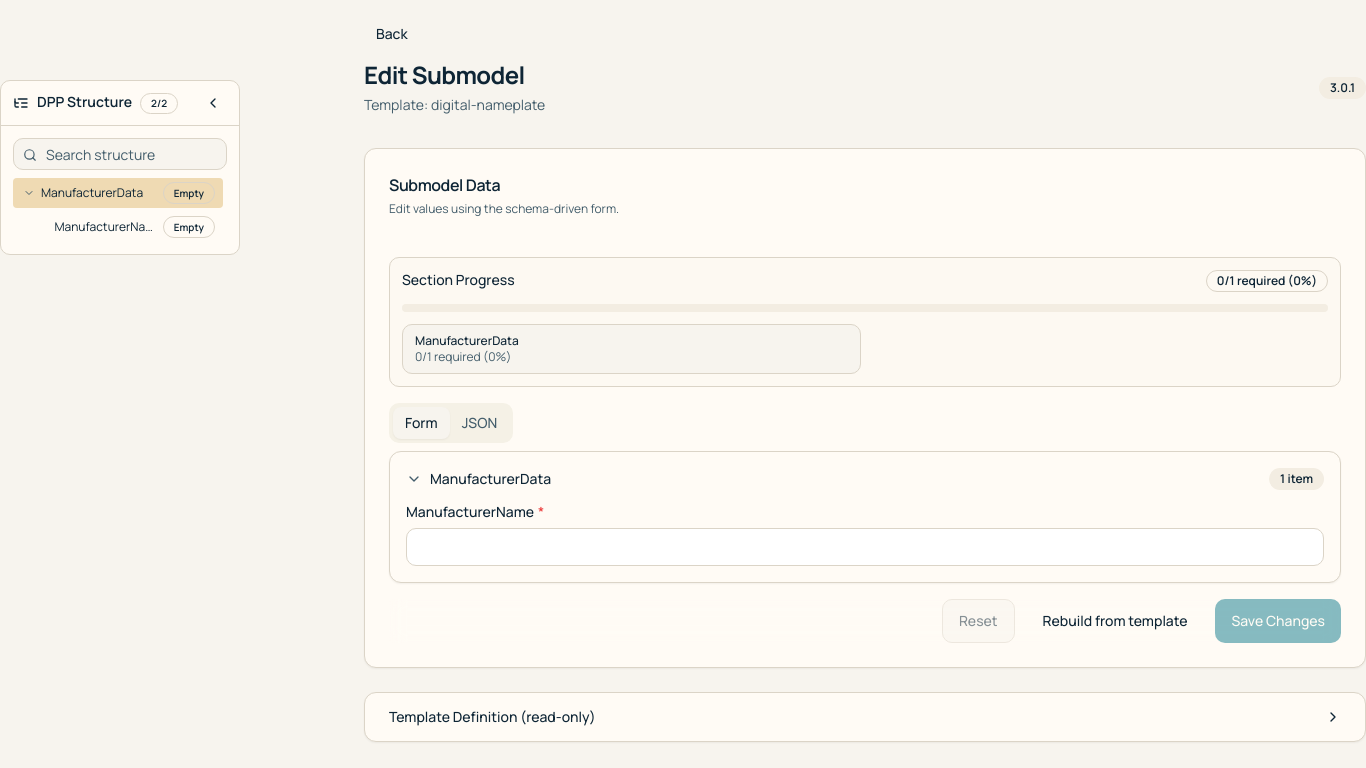
Scenario: SubmodelEditorPage progress and rebuild strategy › renders section progress and opens destructive rebuild confirmation dialog
The image size is (1366, 768).
Expected: the text "Section Progress" is shown, [402,271,515,291]
Expected: the text "ManufacturerData" below "DPP Structure" is shown, [41,184,143,201]
Click the button "Rebuild from template": [1115, 621] box [1027,599,1203,643]
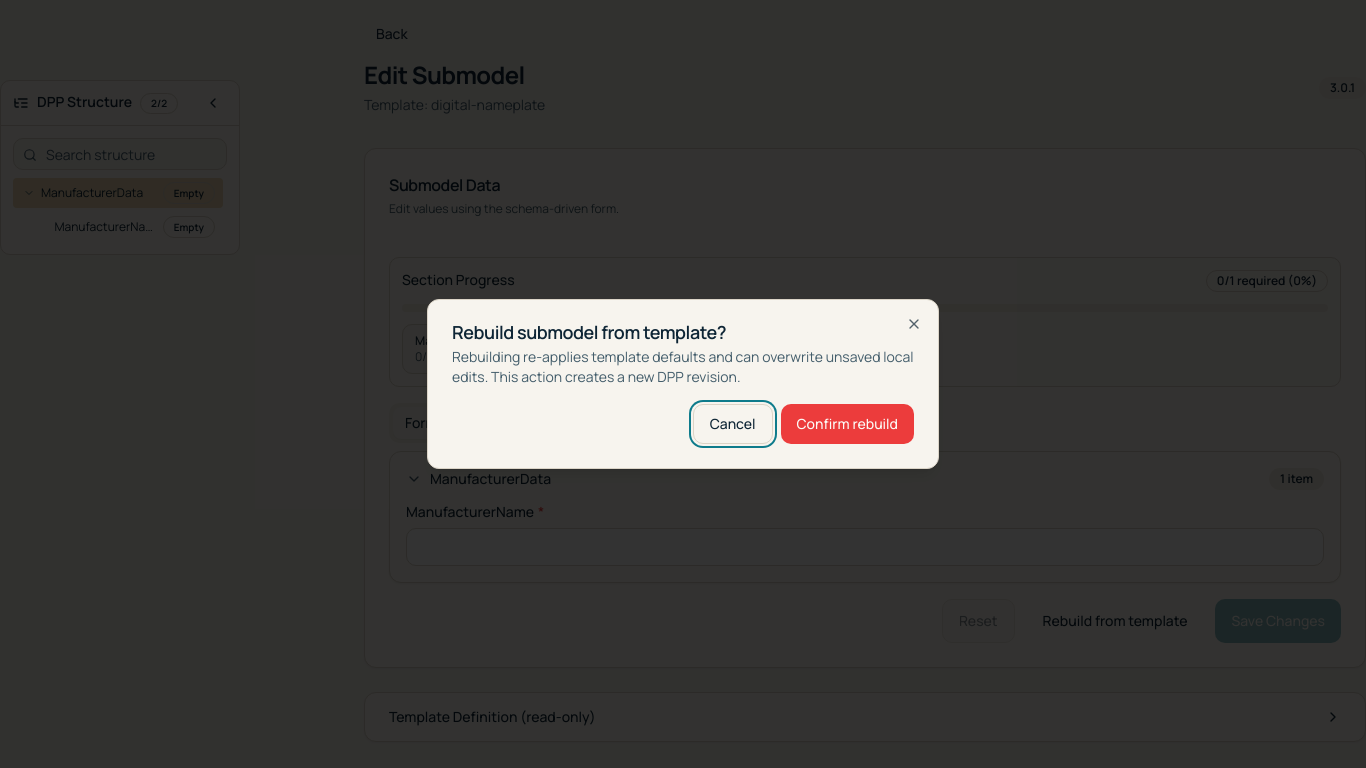
Result: the heading "Rebuild submodel from template?" is shown at [452,321,726,345]
Result: the button "Confirm rebuild" is shown at [780,404,914,444]
